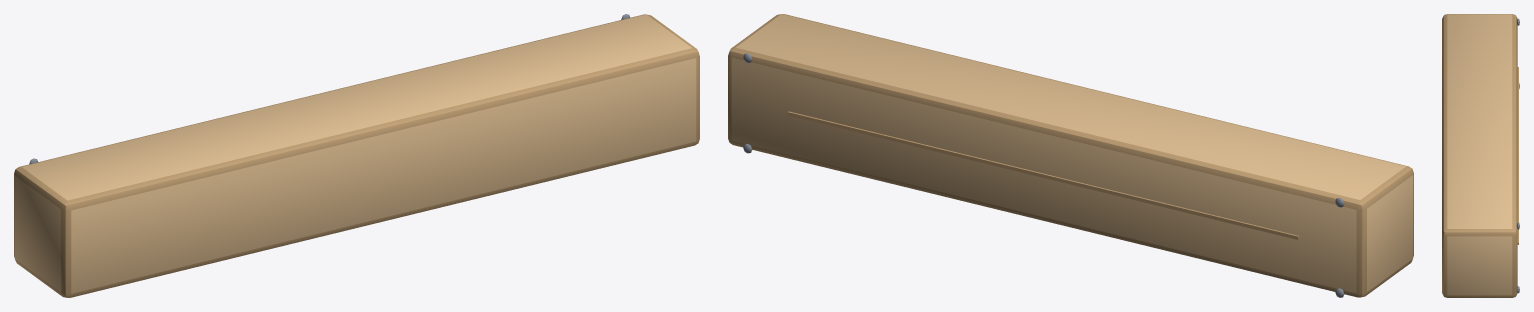
Rendered from PlankMediumWood.fbx.
The picture shows the model from 3 angles, left to right: view 1: azimuth 30°, elevation 25°; view 2: azimuth 150°, elevation 25°; view 3: azimuth 270°, elevation 25°; orthographic projection. The views are drawn at different scales.
Parts seen in each view (by area): view 1: PlankMediumWood; view 2: PlankMediumWood; view 3: PlankMediumWood.
Part boxes in pixels (x1,y1,x2,y2): PlankMediumWood: [14, 14, 699, 297]; PlankMediumWood: [728, 14, 1413, 297]; PlankMediumWood: [1442, 14, 1519, 297].
Size of the model in its own units: 9.6 by 1.44 by 1.44.
